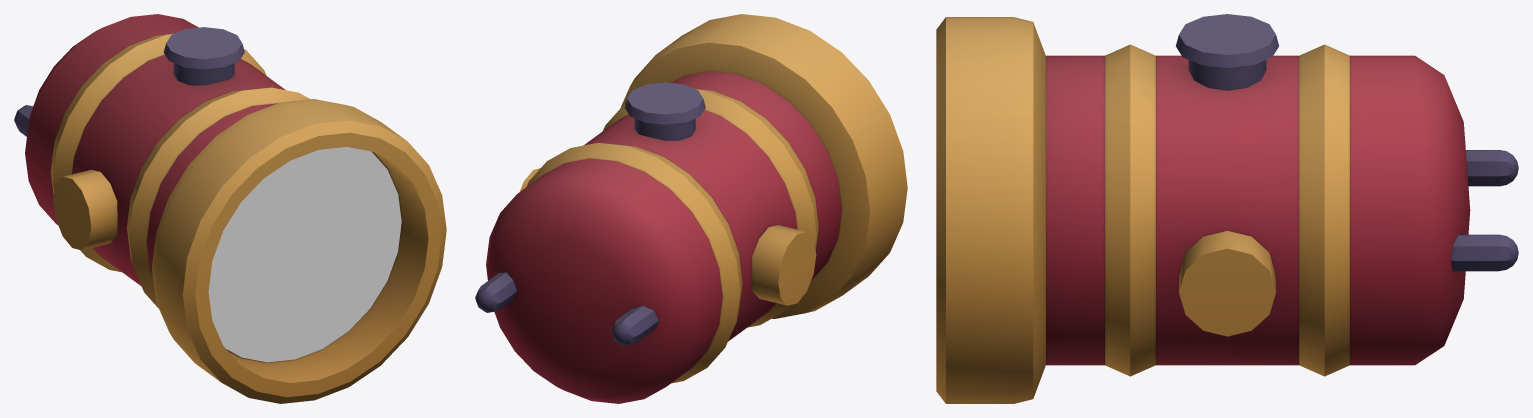
File: lamp_turret_head.fbx
3 views of the same model, side by side, from view 1: azimuth 30°, elevation 25°; view 2: azimuth 150°, elevation 25°; view 3: azimuth 270°, elevation 25° (orthographic). The views are drawn at different scales.
Visible parts, largest first — view 1: lamp_turret_head, lamp_turret_head_lamp_glow; view 2: lamp_turret_head; view 3: lamp_turret_head.
Part boxes in pixels (x1,y1,x2,y2): lamp_turret_head: [14, 14, 446, 403]; lamp_turret_head_lamp_glow: [208, 147, 401, 362]; lamp_turret_head: [475, 14, 907, 403]; lamp_turret_head: [936, 14, 1518, 403].
Bounding box in the file's own units: 240 × 240 × 360.
Materials: 2 (1 with a texture image).
